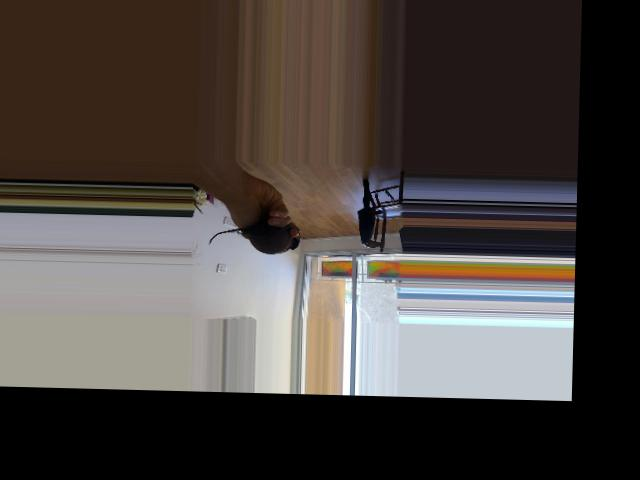beet: (209, 221, 301, 254)
